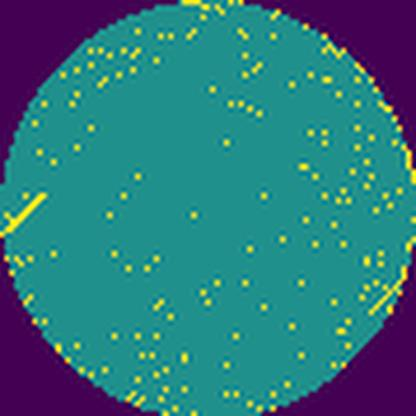Scratch: (2, 187, 52, 236)
